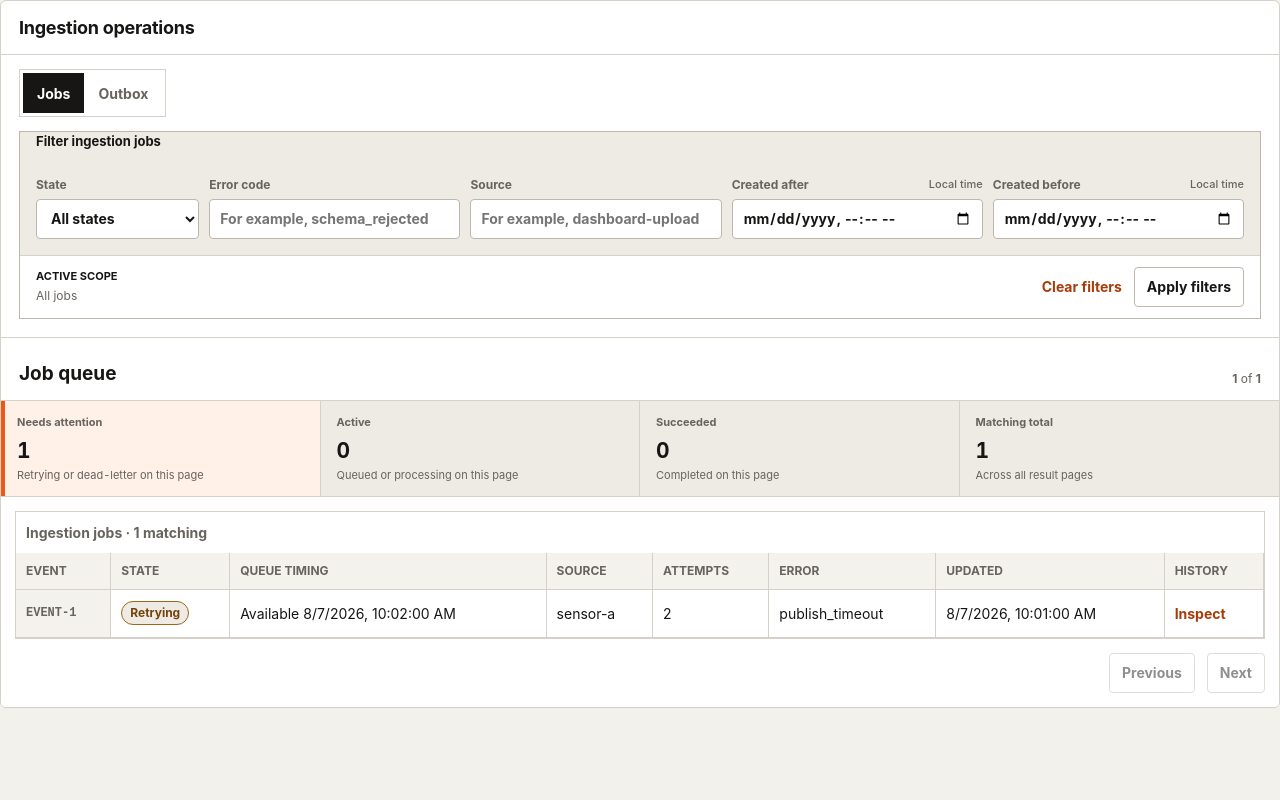
Scenario: IngestionOperations › rejects an inverted job time range before requesting it
Expected: the table "Ingestion jobs" is shown, [16,512,1264,638]
Type "2026-08-07T12:00" into the field labelled "Created after Local time" at point(857, 218), box [732,198,983,238]
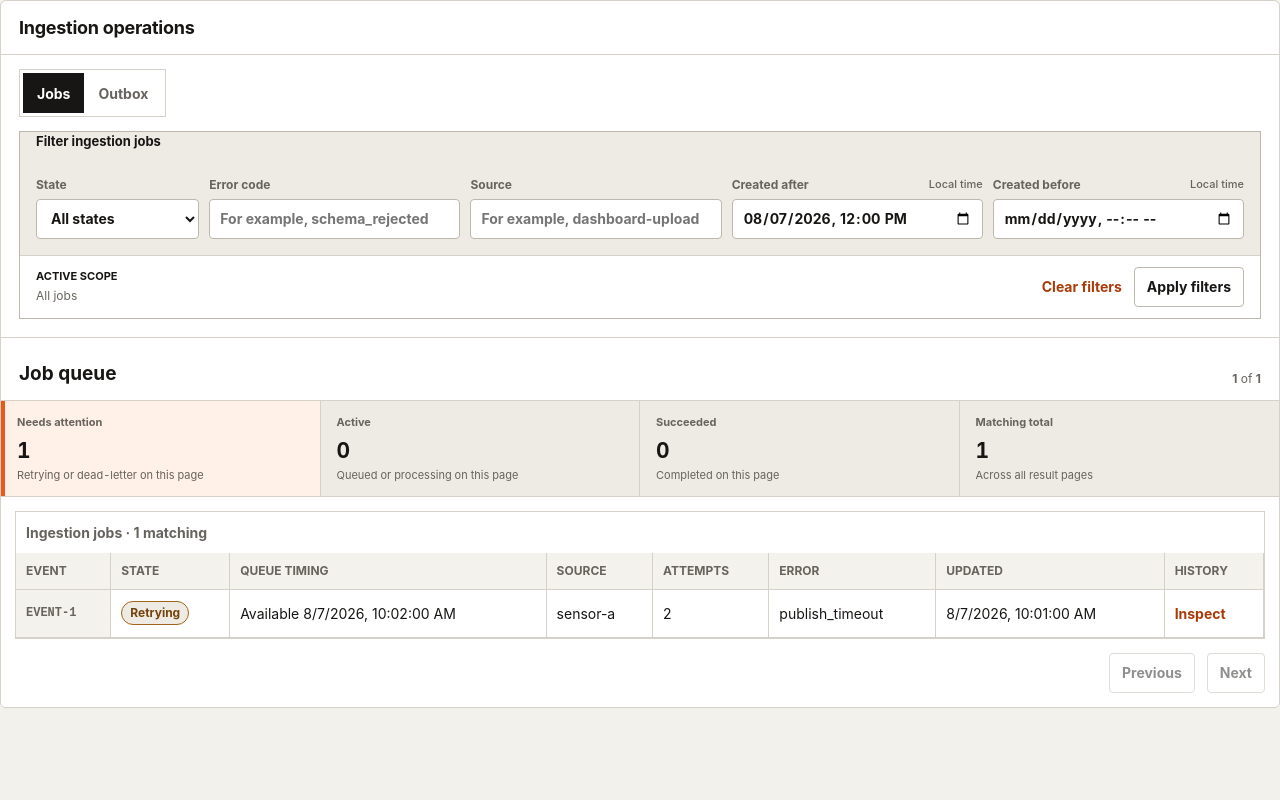
Type "2026-08-07T11:00" into the field labelled "Created before Local time" at point(1118, 218), box [993,198,1244,238]
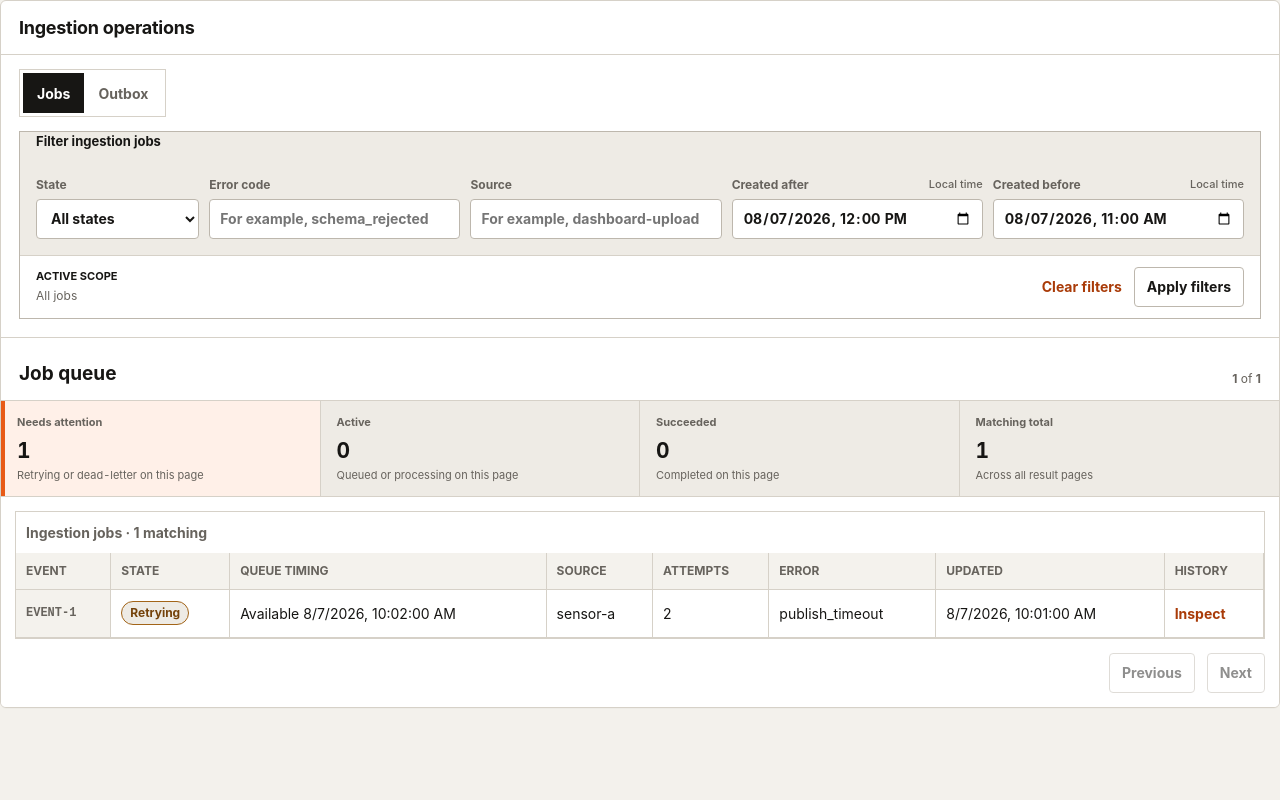
Click the button "Apply filters" at point(1189, 286), box [1134,266,1244,306]
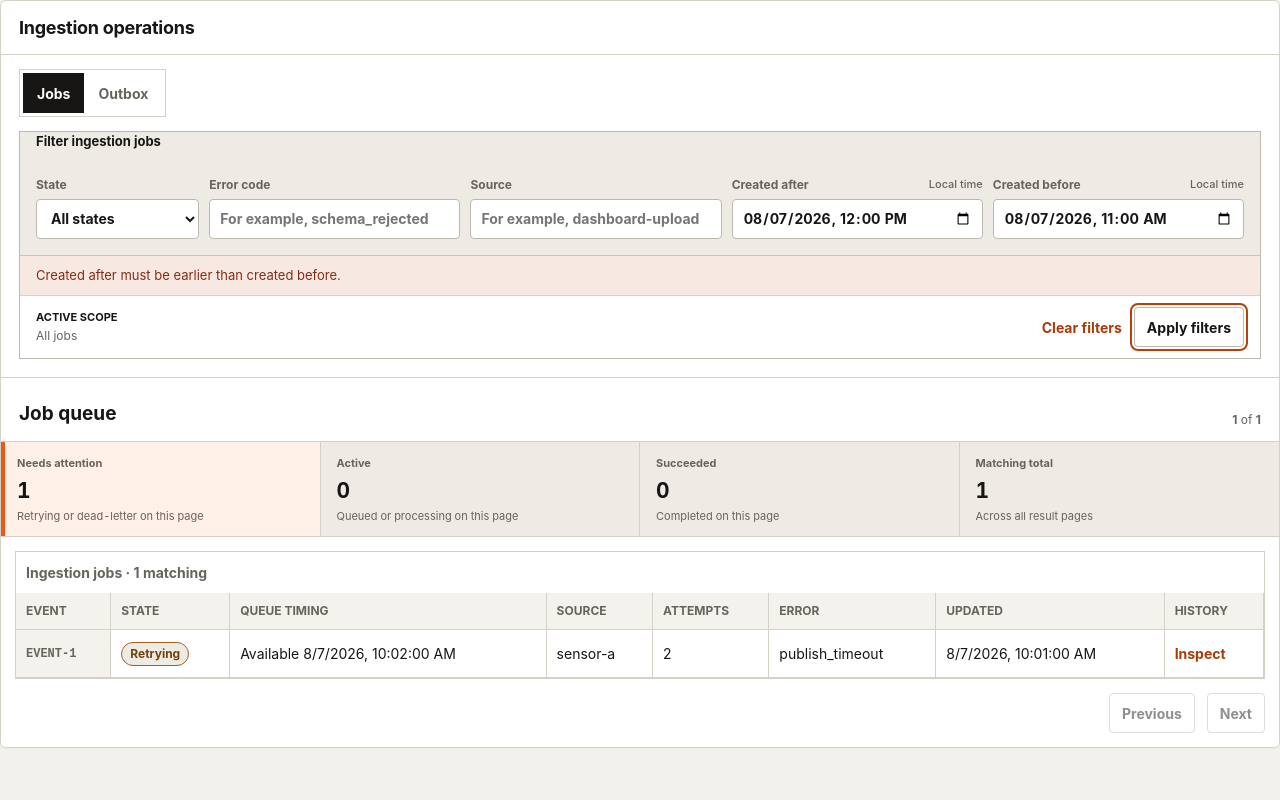
Expected: the message shows "Created after must be earlier", [36,266,341,282]
